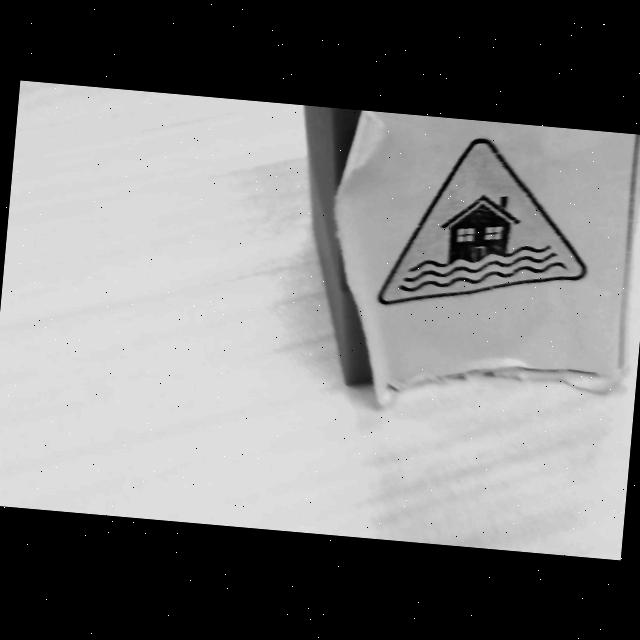Tsunami: (379, 138, 586, 305)
